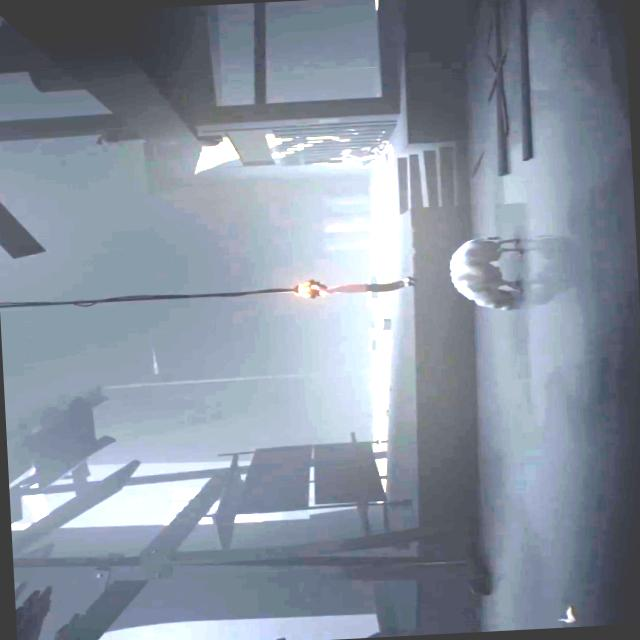boy: (309, 276, 416, 296)
zombie: (340, 143, 387, 161)
